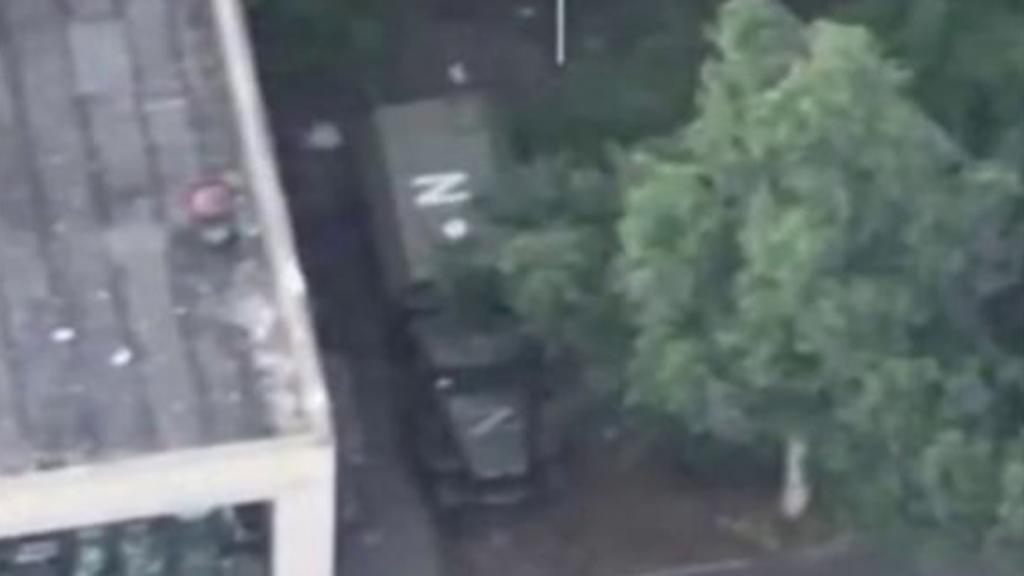TRUCK: (346, 91, 558, 508)
